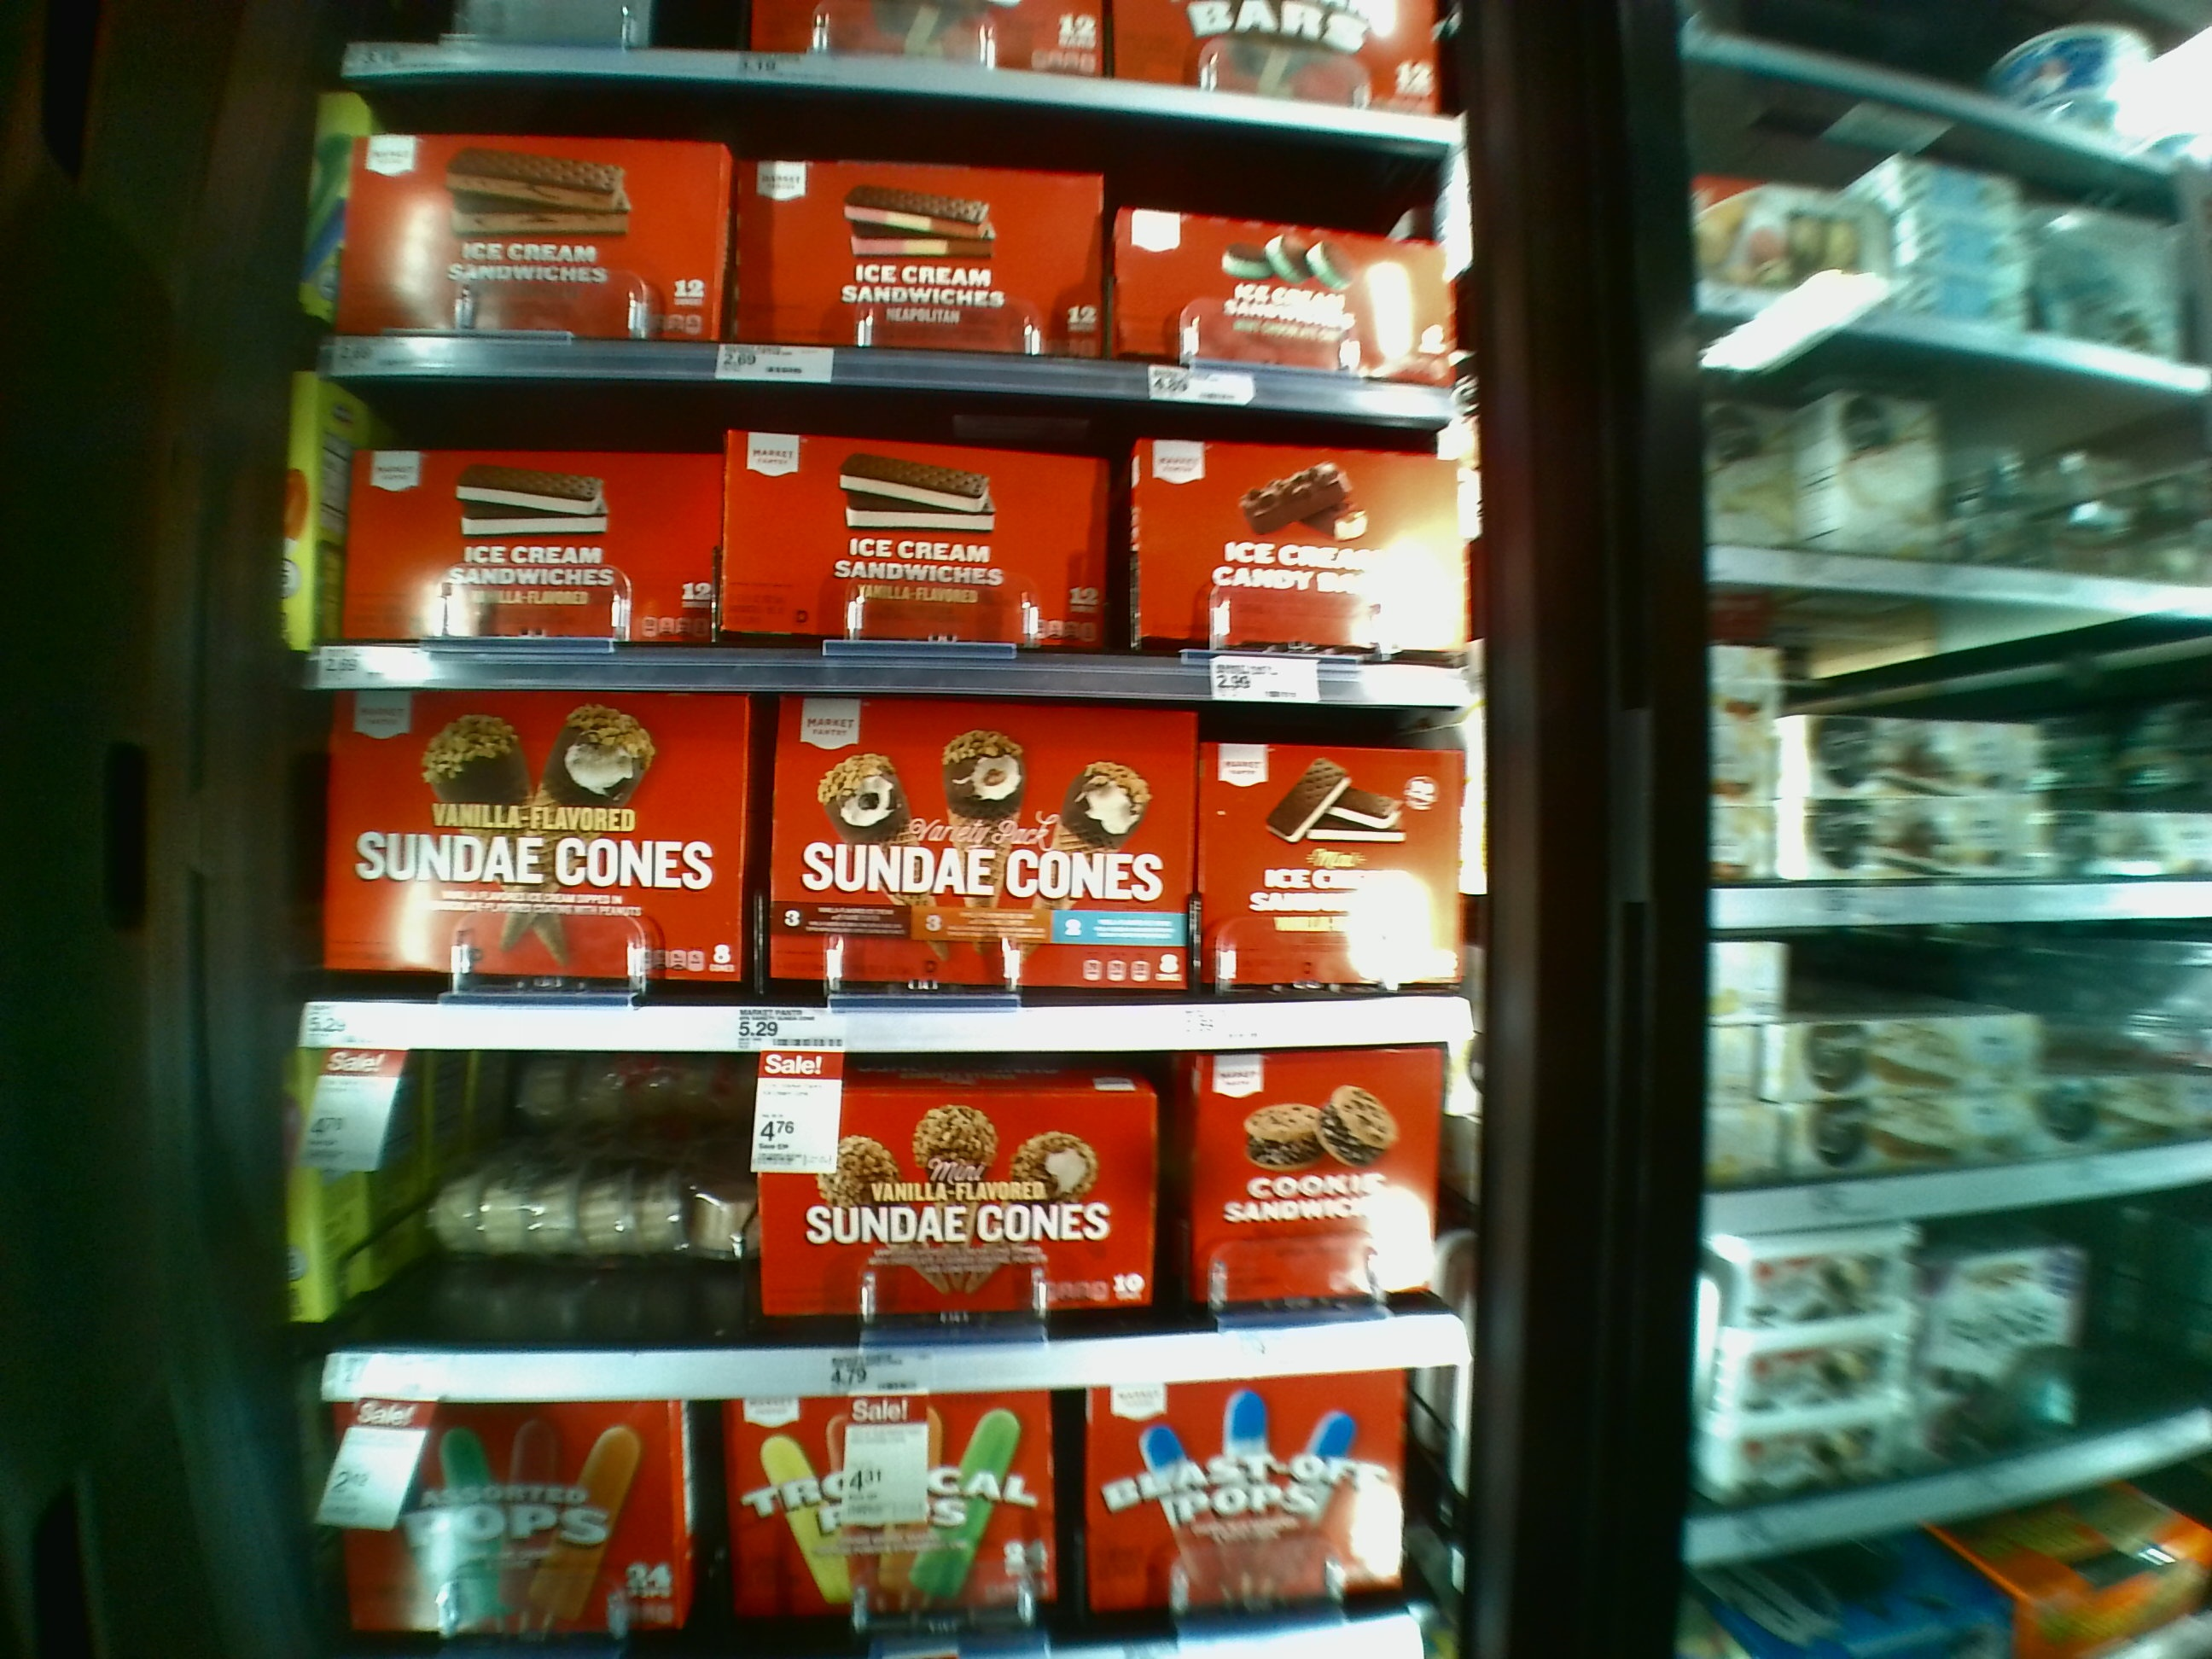shelf: (315, 690, 1446, 1053), (340, 70, 1474, 415), (326, 1056, 1444, 1387), (322, 389, 1467, 708)
